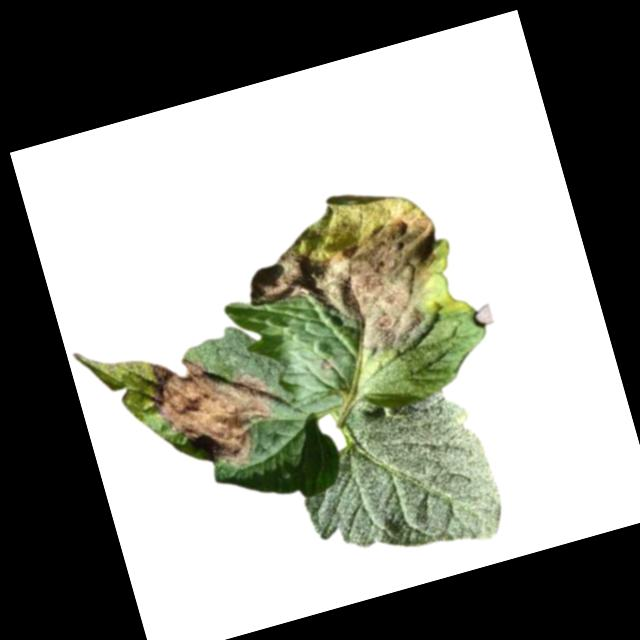Late_blight: (228, 170, 463, 380), (142, 332, 289, 485)
